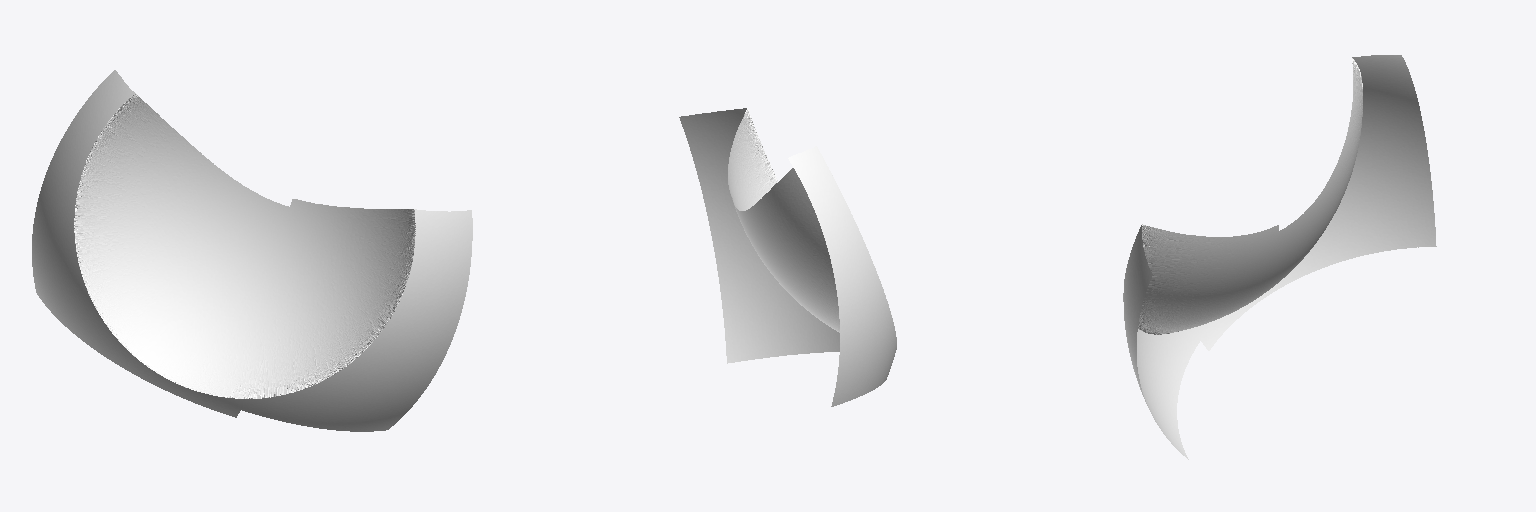
The picture shows the model from 3 angles: view 1: azimuth 30°, elevation 25°; view 2: azimuth 150°, elevation 25°; view 3: azimuth 270°, elevation 25°; orthographic projection.
Parts seen in each view (by area): view 1: P00_102Gg; view 2: P00_102Gg; view 3: P00_102Gg.
Boxes of the visible parts, x1,y1,x2,y2 form: P00_102Gg: [32, 70, 472, 431]; P00_102Gg: [679, 108, 896, 406]; P00_102Gg: [1123, 55, 1436, 459].
Bounding box in the file's own units: 9587 × 9729 × 8516.